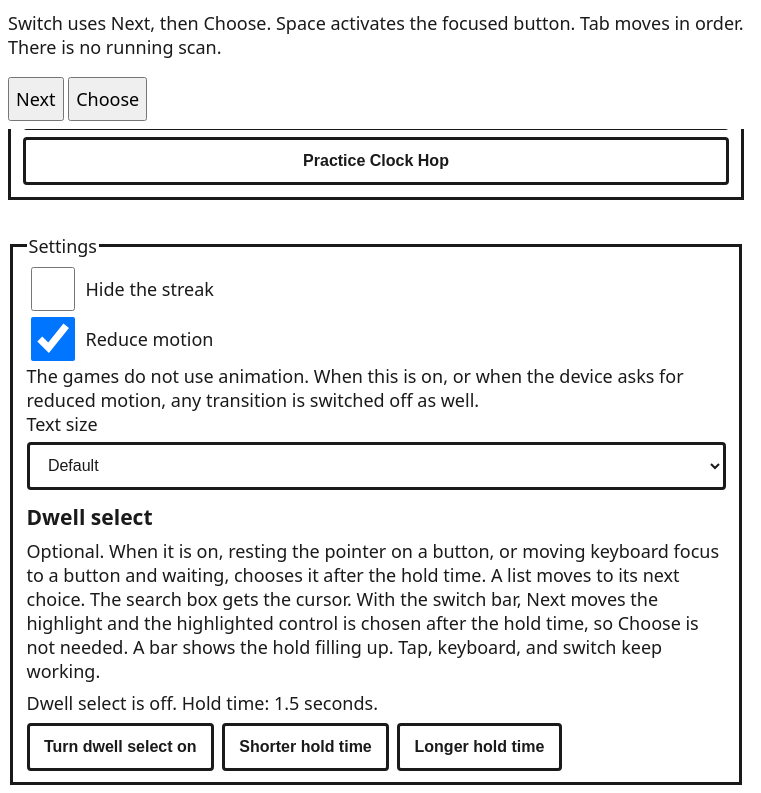
dwell select in the games shell › is off by default, and its controls turn it on, adjust it, and turn it off
The width and height of the screenshot is (761, 793).
Later steps or results of the test are not shown.
(page scrolled)
expect the text "Tap, keyboard, and switch keep working" is shown: met, box top-left (26, 538), bottom-right (719, 682)
expect the text "Dwell select is off. Hold time: 1.5 seconds." is shown: met, box top-left (26, 690), bottom-right (378, 714)
Click the button "Turn dwell select on" at {"x": 120, "y": 746}, box top-left (26, 722), bottom-right (214, 770)
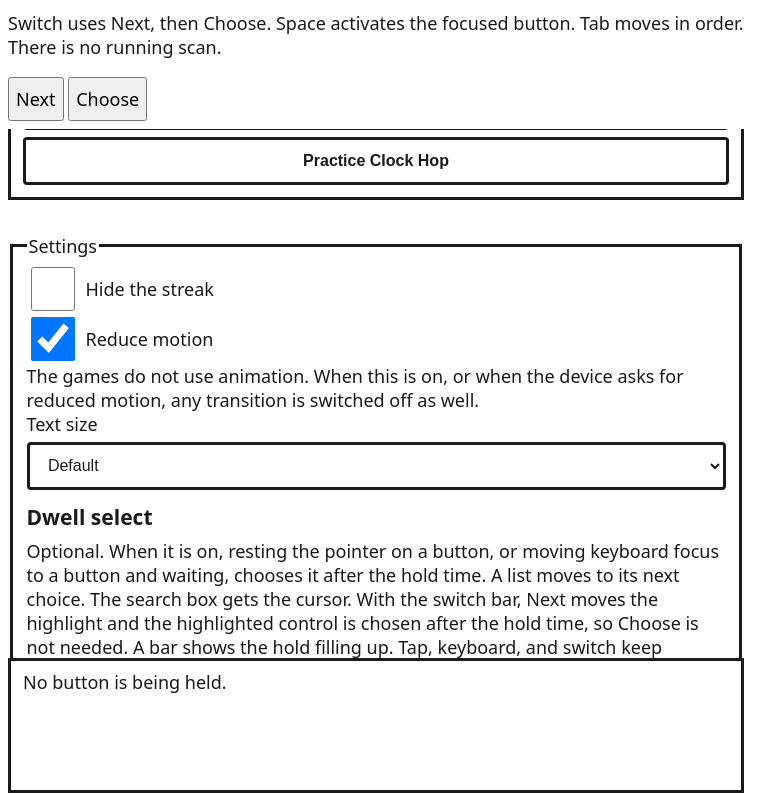
expect the element showing "No button is being held." is shown: met, box top-left (8, 658), bottom-right (744, 792)
expect the text "Dwell select is on. Hold time: 1.5 seconds." is shown: met, box top-left (26, 690), bottom-right (377, 714)
